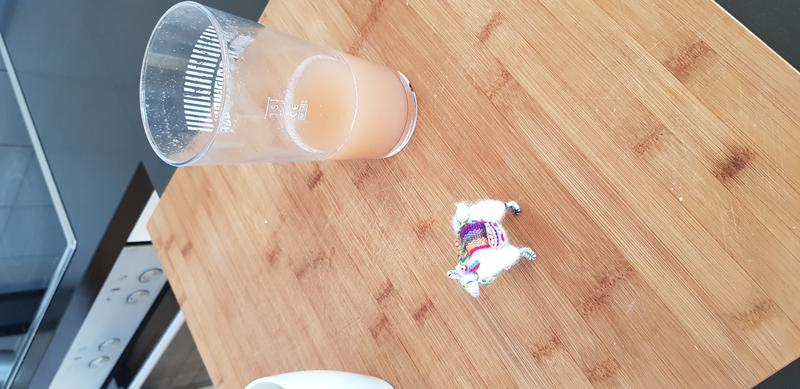Horse-Toy: (440, 195, 542, 302)
